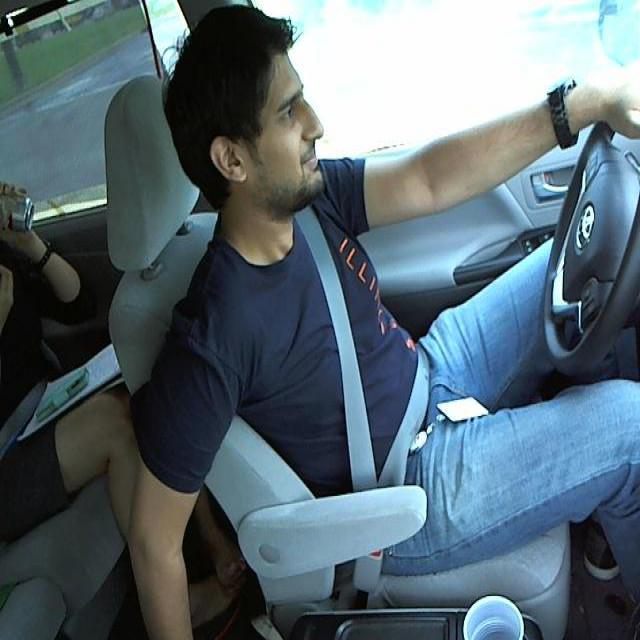seatbelt: (309, 246, 430, 486)
